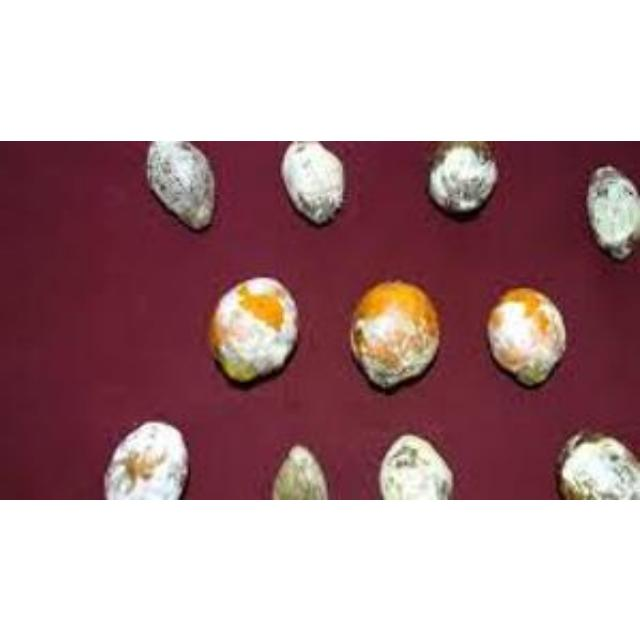damaged: (351, 281, 437, 386), (210, 277, 295, 378), (488, 286, 563, 382), (105, 420, 186, 497), (148, 140, 212, 226), (428, 140, 497, 211), (563, 433, 638, 497), (283, 140, 342, 219), (591, 164, 638, 258), (381, 435, 449, 497), (274, 446, 325, 497)
